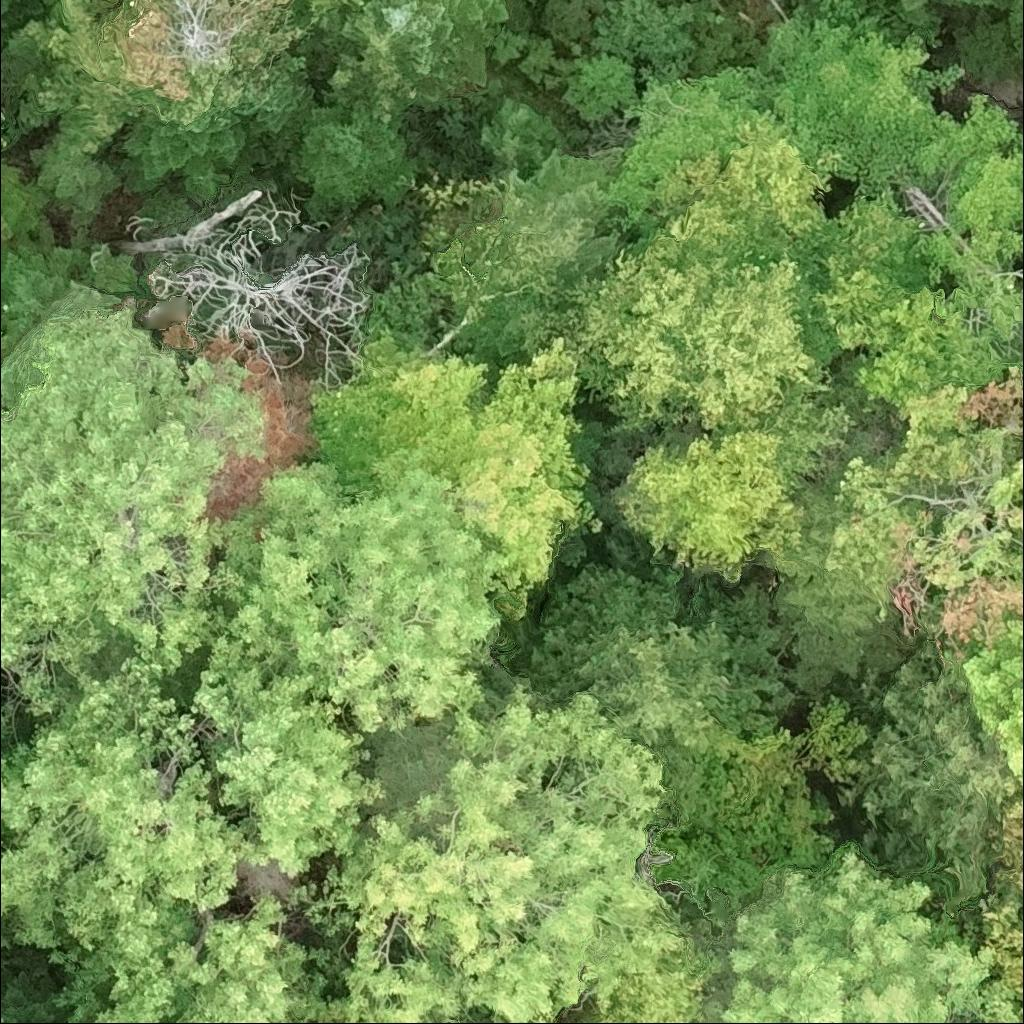crown: (291, 673, 693, 1023), (0, 290, 268, 718), (0, 654, 248, 1023), (304, 319, 606, 618), (223, 441, 506, 734), (813, 357, 1023, 660), (515, 540, 794, 751), (183, 598, 386, 881), (693, 847, 1019, 1023), (562, 236, 842, 438), (849, 638, 1017, 941), (613, 394, 861, 584), (149, 185, 376, 383), (668, 703, 856, 919), (764, 35, 963, 187), (425, 189, 587, 357), (609, 65, 770, 232), (308, 0, 526, 119), (807, 249, 948, 413), (96, 0, 305, 100), (168, 898, 328, 1023), (281, 86, 422, 212), (564, 914, 720, 1023), (507, 143, 627, 266), (112, 97, 251, 201), (941, 93, 1023, 268), (949, 616, 1023, 800), (977, 798, 1023, 1020), (28, 130, 122, 223), (229, 46, 318, 136), (755, 6, 851, 83), (0, 158, 50, 268), (985, 455, 1023, 505), (299, 0, 368, 26), (934, 0, 1013, 10), (0, 709, 10, 749), (0, 111, 6, 150), (0, 1016, 23, 1023), (1018, 1000, 1023, 1023), (456, 1022, 480, 1023)
